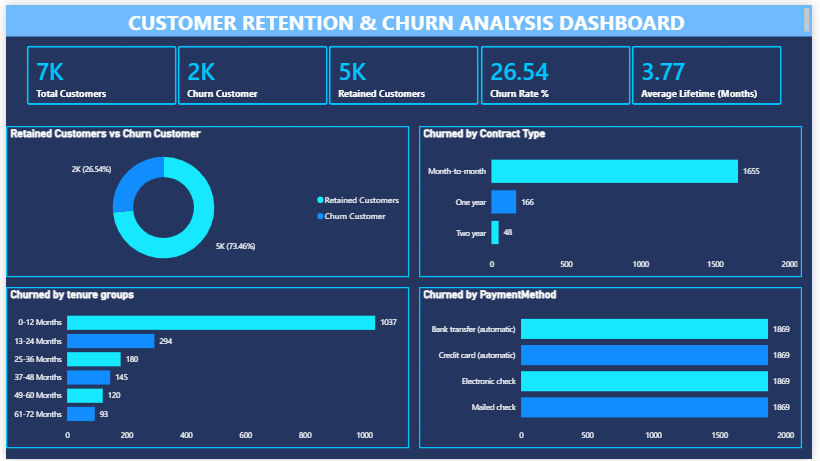

The dashboard page shown, as its layout file describes it:
{"tool":"powerbi","page":{"name":"Churn Overview","canvas":[1280,720],"ordinal":0},"visuals":[{"type":"textbox","box":[0,0,1280,50],"z":0},{"type":"cardVisual","fields":{"Data":["Cleaned_Churn.Total Customers"]},"box":[16,48,272,128],"z":1000},{"type":"donutChart","title":"Retained Customers vs Churn Customer","fields":{"Y":["Cleaned_Churn.Retained Customers","Cleaned_Churn.Churn Customer"]},"box":[0,192,640,240],"z":2000},{"type":"clusteredBarChart","title":"Churned by Contract Type","fields":{"Y":["Sum(cohort_analysis.Churned)"],"Category":["cohort_analysis.Contract"]},"box":[656,192,608,240],"z":3000},{"type":"clusteredBarChart","title":"Churned by tenure groups","fields":{"Y":["Sum(cohort_analysis.Churned)"],"Category":["cohort_analysis.tenure_groups"]},"box":[0,448,640,256],"z":4000},{"type":"clusteredBarChart","title":"Churned by PaymentMethod","fields":{"Y":["Sum(cohort_analysis.Churned)"],"Category":["Cleaned_Churn.PaymentMethod"]},"box":[656,448,608,256],"z":5000},{"type":"cardVisual","fields":{"Data":["Cleaned_Churn.Churn Customer"]},"box":[256,48,272,128],"z":6000},{"type":"cardVisual","fields":{"Data":["Cleaned_Churn.Retained Customers"]},"box":[496,48,272,128],"z":7000},{"type":"cardVisual","fields":{"Data":["Cleaned_Churn.Churn Rate %"]},"box":[736,48,272,128],"z":8000},{"type":"cardVisual","fields":{"Data":["Cleaned_Churn.Average Lifetime (Months)"]},"box":[976,48,272,128],"z":9000}]}

Visuals, with their boxes in screenshot pixels (x1, y1, x2, y2), scaled from the page's 1280x720 canvas onto the 820x461 screenshot:
textbox: bbox=[0, 0, 819, 32]
cardVisual - Cleaned_Churn.Total Customers: bbox=[10, 31, 184, 113]
"Retained Customers vs Churn Customer" donutChart: bbox=[0, 123, 410, 277]
"Churned by Contract Type" clusteredBarChart: bbox=[420, 123, 810, 277]
"Churned by tenure groups" clusteredBarChart: bbox=[0, 287, 410, 451]
"Churned by PaymentMethod" clusteredBarChart: bbox=[420, 287, 810, 451]
cardVisual - Cleaned_Churn.Churn Customer: bbox=[164, 31, 338, 113]
cardVisual - Cleaned_Churn.Retained Customers: bbox=[318, 31, 492, 113]
cardVisual - Cleaned_Churn.Churn Rate %: bbox=[472, 31, 646, 113]
cardVisual - Cleaned_Churn.Average Lifetime (Months): bbox=[625, 31, 800, 113]
